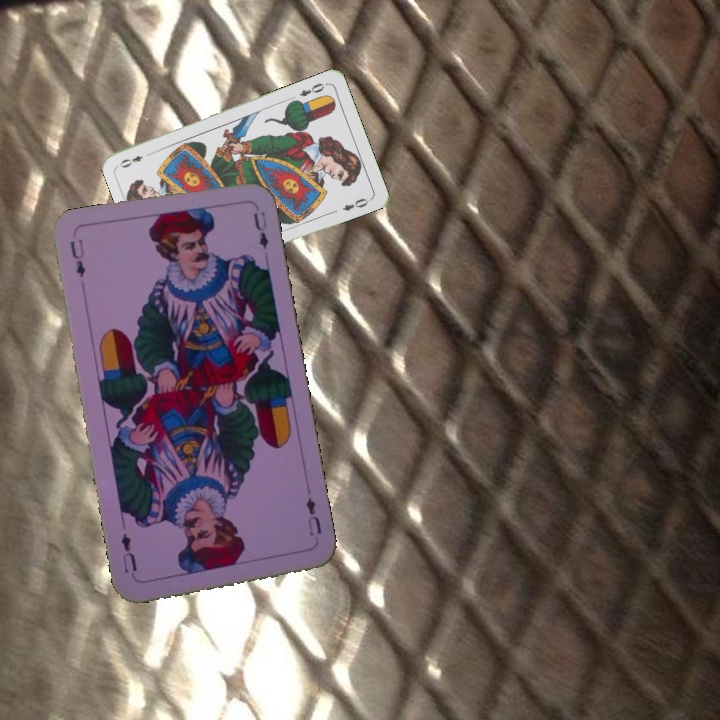EO: (295, 79, 330, 99)
EU: (302, 493, 324, 539), (66, 235, 88, 280)
